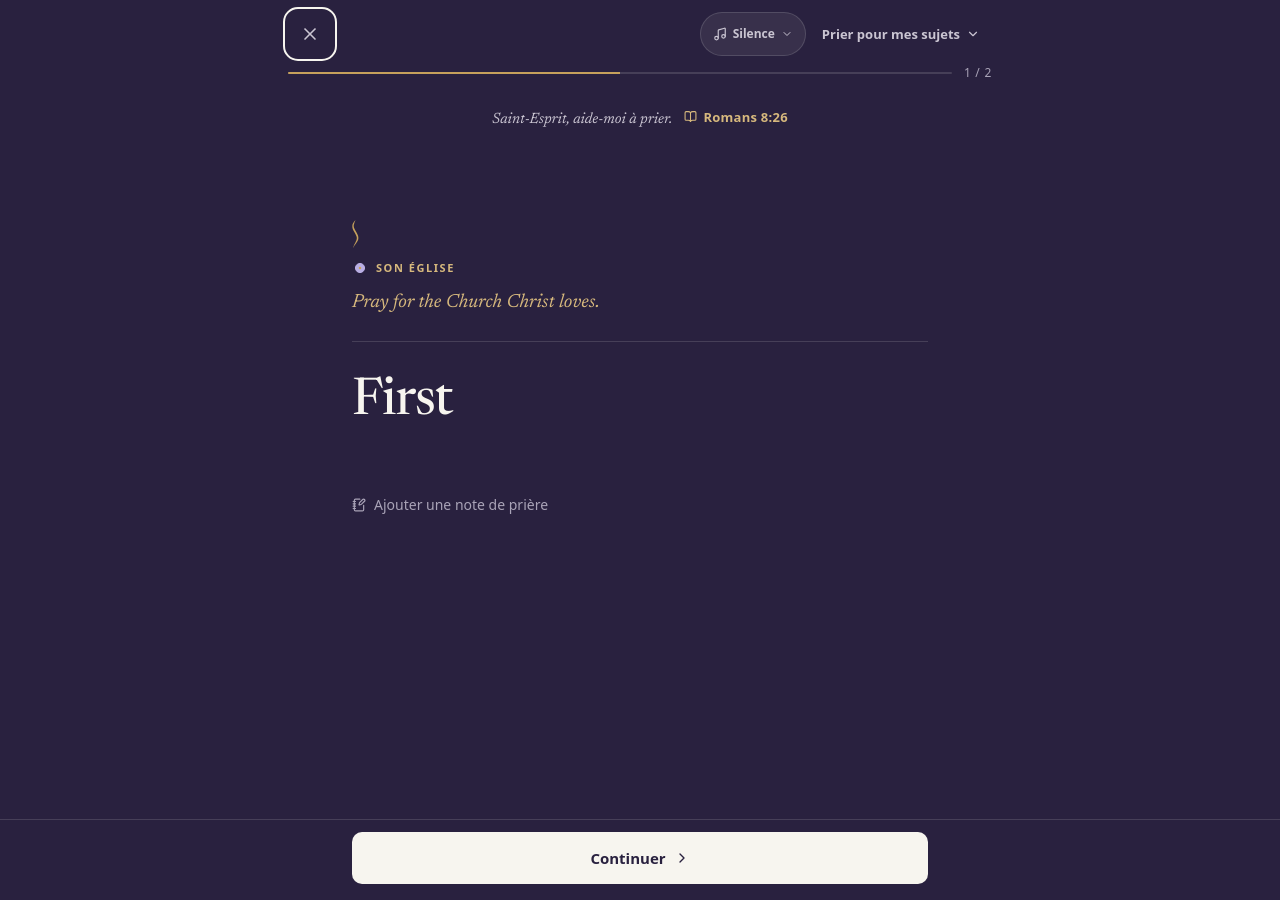
PrayerSession — Pray through my altar › crosses a threshold only into a new circle, never between two prayers of the same one
Expected: the element showing "Son Église Pray for the Church Christ loves." is shown, [352,220,928,342]
Click the button "Continuer" at [640, 858], box [352,832,928,884]
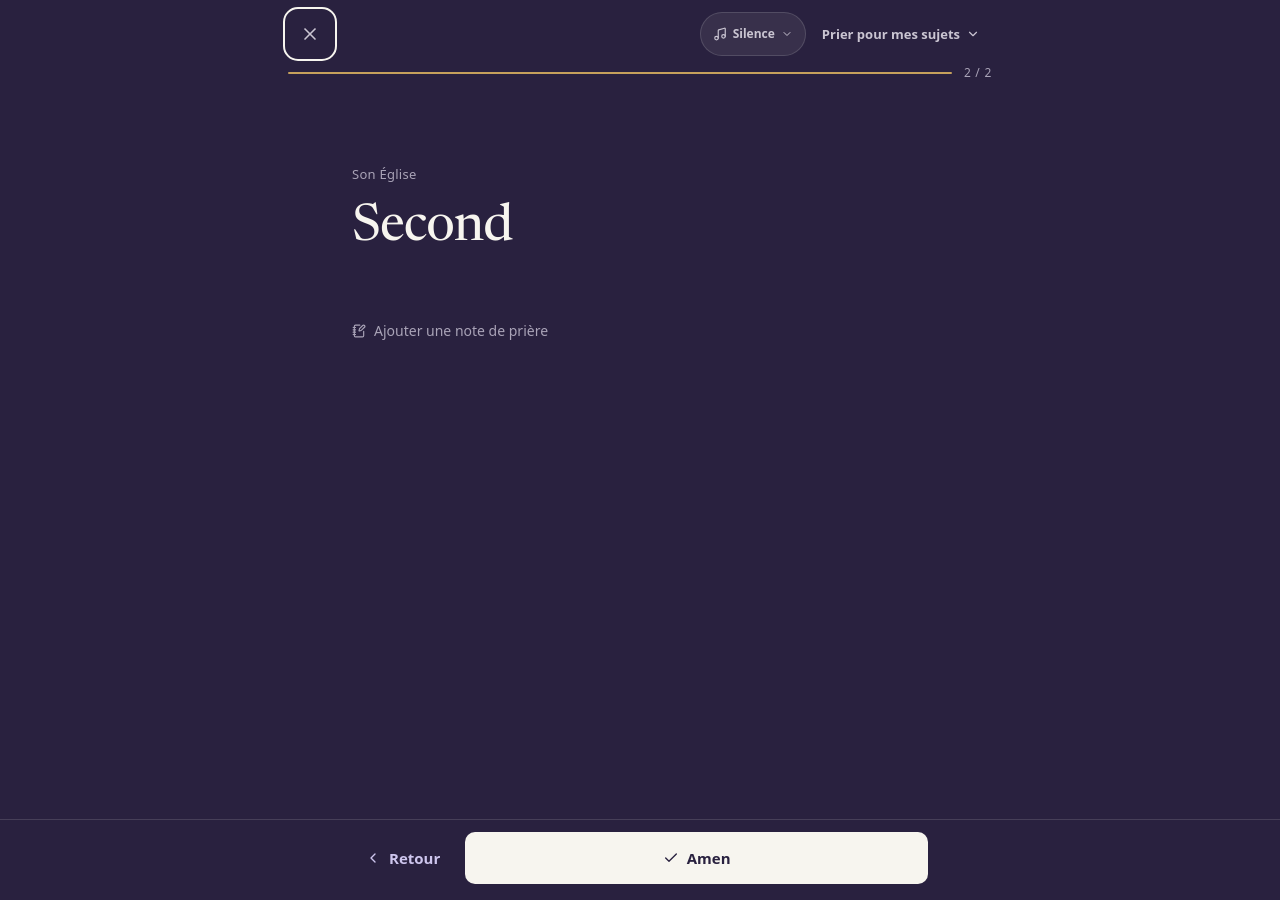
Expected: the text "Son Église" is shown, [352,165,416,183]
Expected: the heading "Second" is shown, [352,202,512,254]
